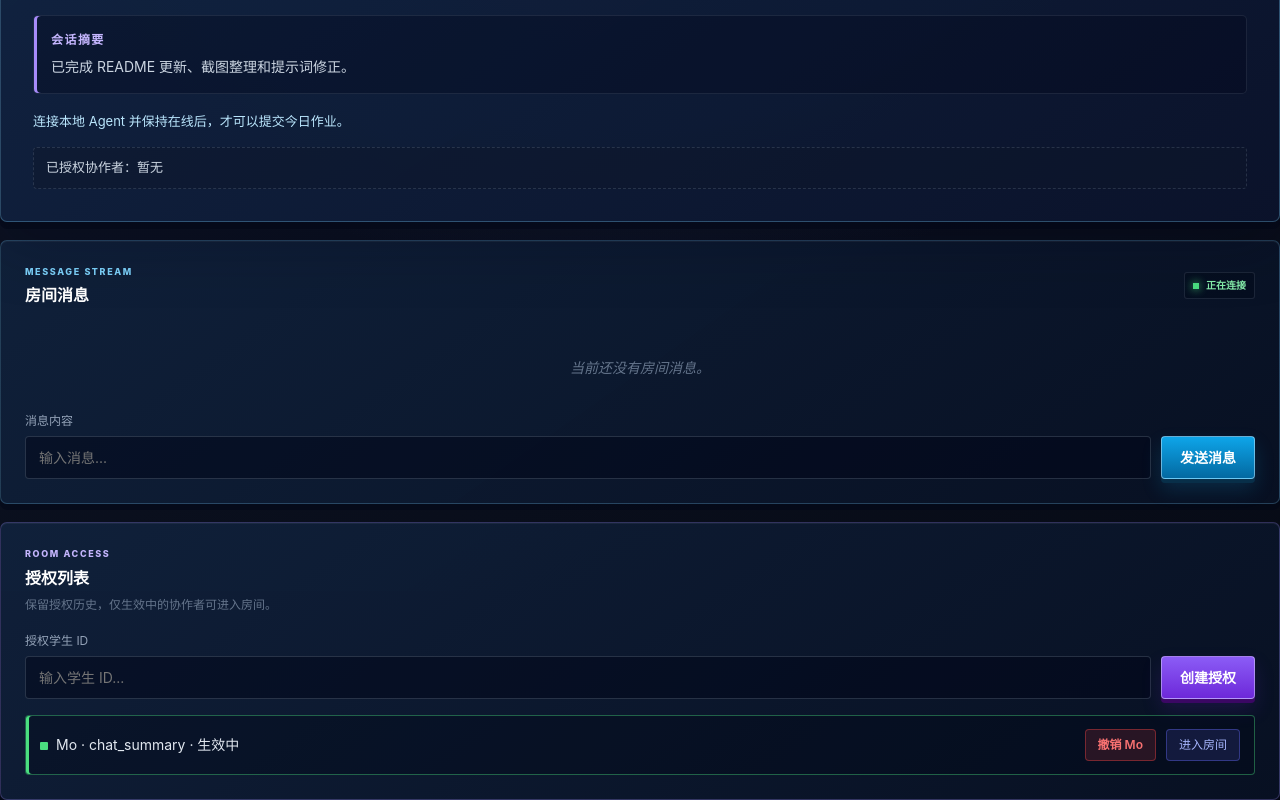
Test case: ChatRoom › revokes an active room access grant from the chat room
(page scrolled)
Click the button "撤销 Mo". click: [1120, 745]
box: [1085,729,1156,761]
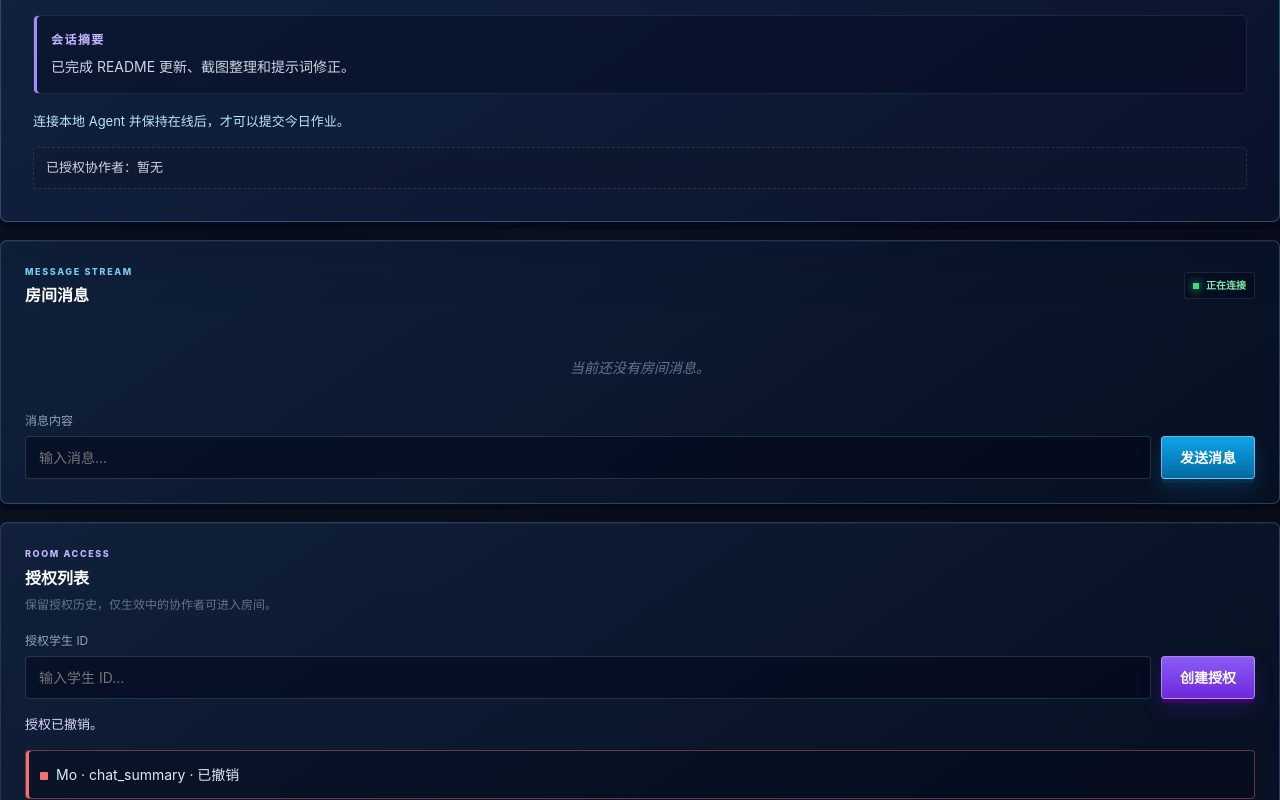
Check: the text "Mo · chat_summary · 已撤销" is shown, box [40,764,239,785]
Check: the text "授权已撤销。" is shown, box [25,716,103,732]
